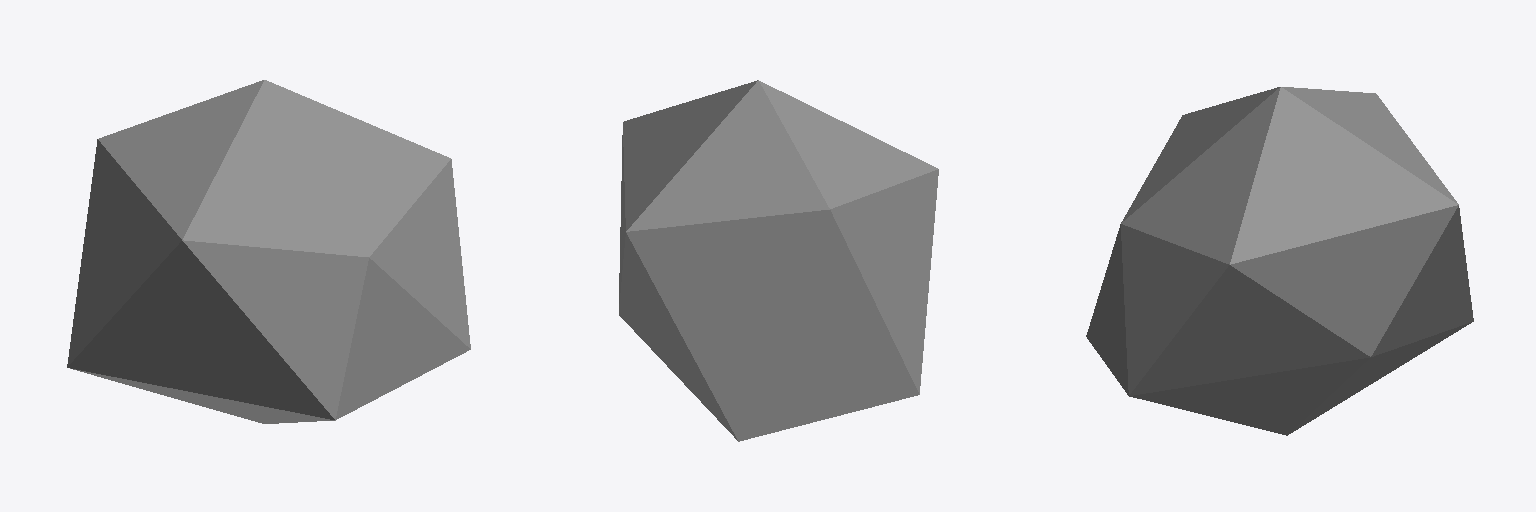
The model's file is asteroid_medium.obj.
3 views of the same model, side by side, from view 1: azimuth 30°, elevation 25°; view 2: azimuth 150°, elevation 25°; view 3: azimuth 270°, elevation 25° (orthographic).
Parts seen in each view (by area): view 1: Icosphere; view 2: Icosphere; view 3: Icosphere.
Boxes of the visible parts, x1,y1,x2,y2 form: Icosphere: [67, 80, 470, 423]; Icosphere: [619, 80, 938, 441]; Icosphere: [1086, 87, 1473, 435].
Bounding box in the file's own units: 1.99 × 1.94 × 1.96.